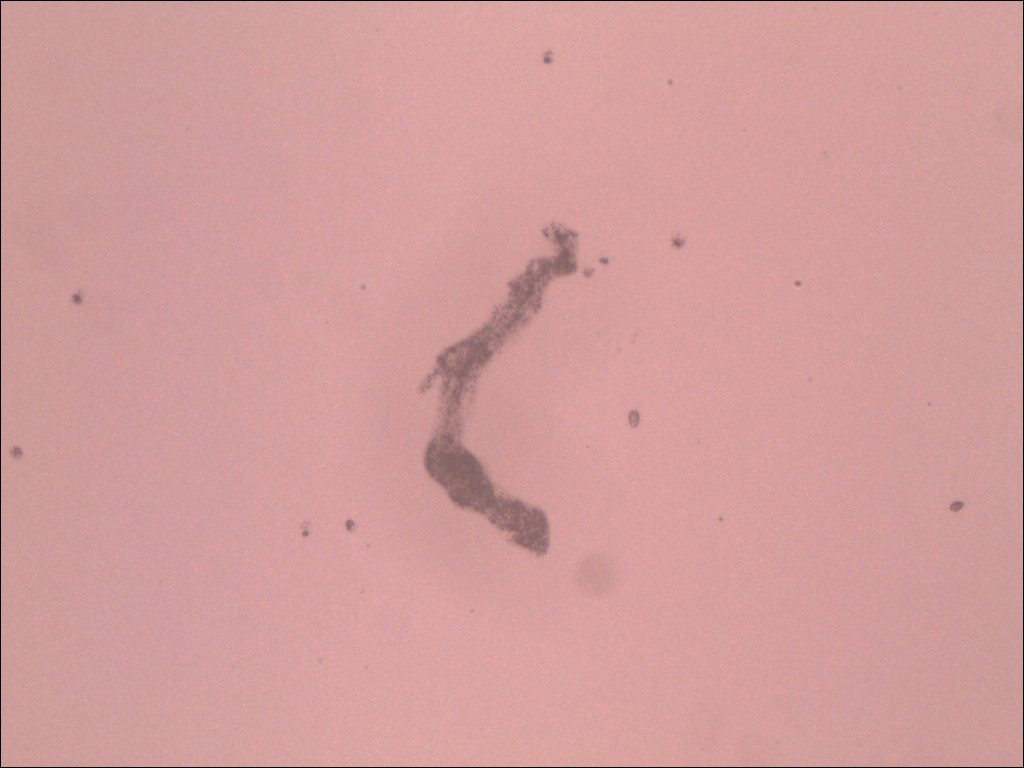amoeba: (408, 213, 619, 572)
